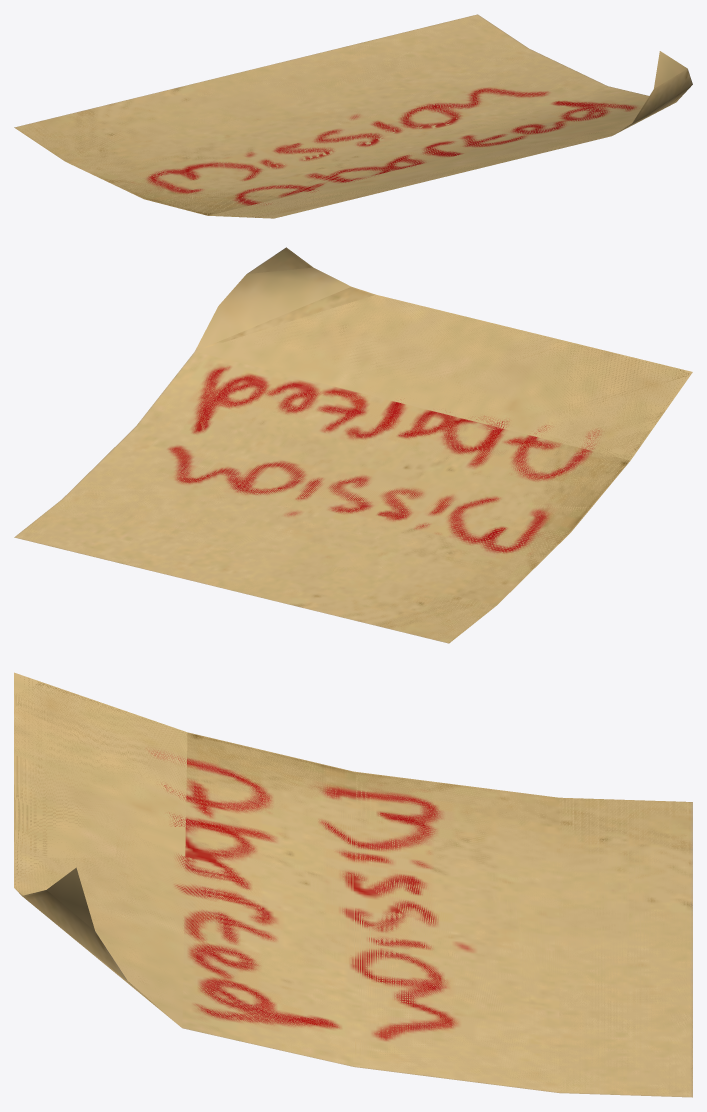
File: notes_mission_aborted_05.dae
3 views of the same model, one above another, from view 1: azimuth 30°, elevation 25°; view 2: azimuth 150°, elevation 25°; view 3: azimuth 270°, elevation 25° (orthographic). The views are drawn at different scales.
Parts seen in each view (by area): view 1: postit_mission_aborted; view 2: postit_mission_aborted; view 3: postit_mission_aborted.
Part boxes in pixels (x1=…): postit_mission_aborted: x1=14, y1=14, x2=692, y2=218; postit_mission_aborted: x1=14, y1=247, x2=692, y2=643; postit_mission_aborted: x1=14, y1=672, x2=692, y2=1097.
Size of the model in its own units: 0.1258 by 0.0386 by 0.1214.
